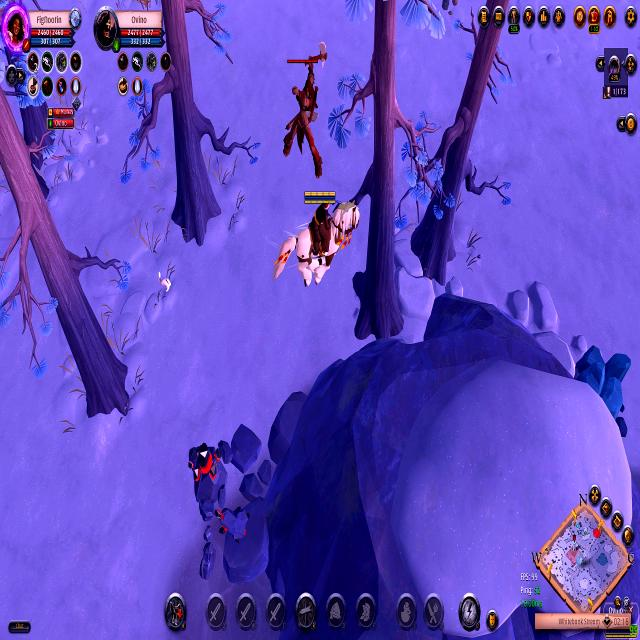ore: (176, 430, 248, 590), (278, 39, 332, 181)
red: (273, 184, 361, 294)
tree: (571, 332, 632, 430)
